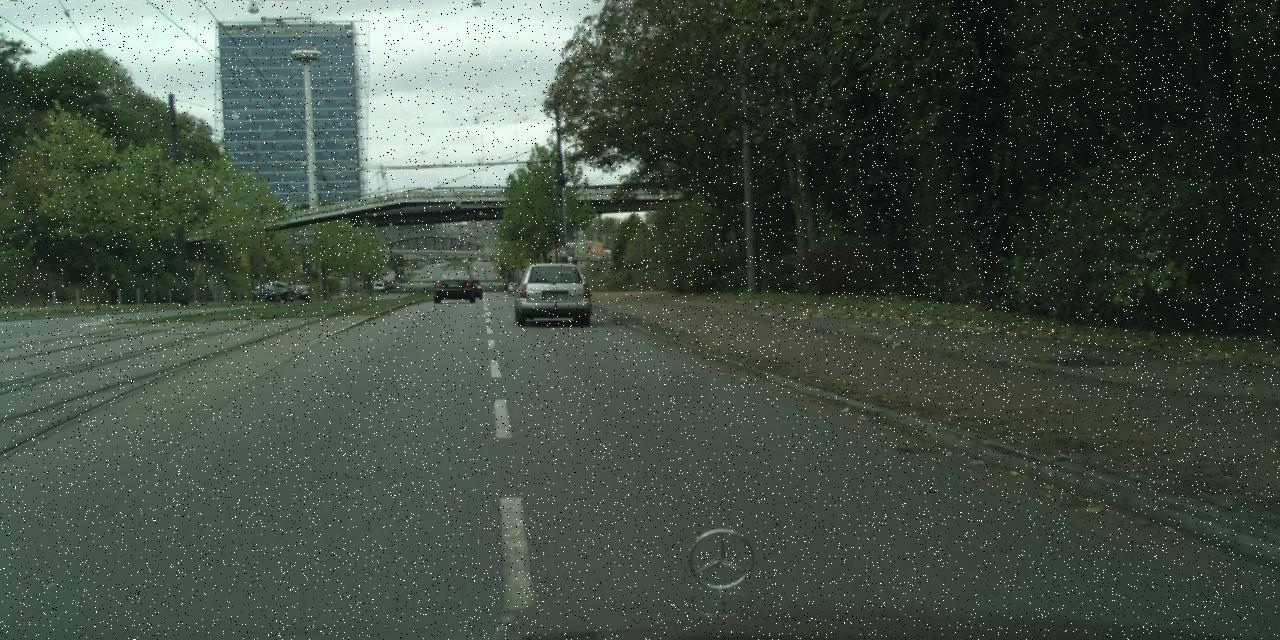ped: (108, 273, 120, 303)
